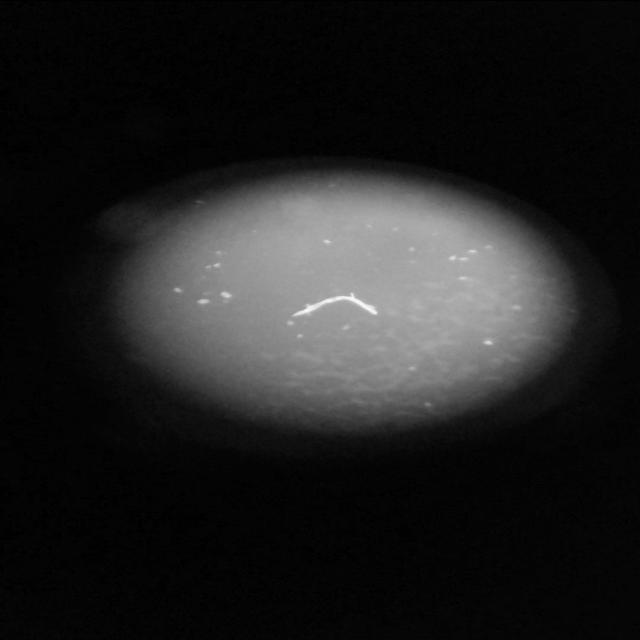psudo-nitzschia: (280, 288, 396, 322)
